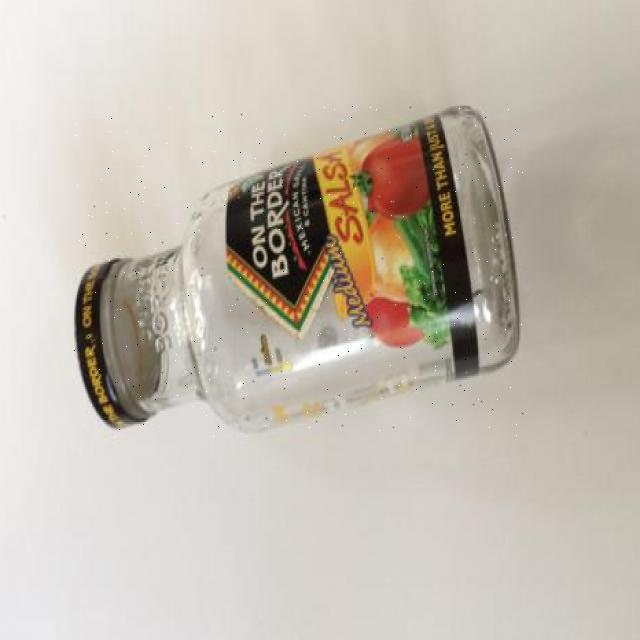glass: (73, 106, 523, 437)
